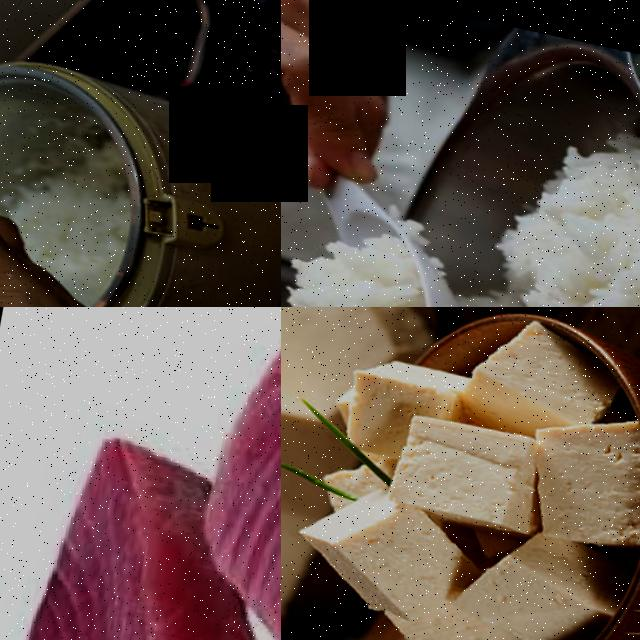tofu: (303, 482, 487, 620), (389, 400, 555, 527), (468, 511, 610, 640), (516, 400, 640, 544), (465, 311, 615, 427), (353, 345, 470, 410)
tuna: (0, 419, 281, 640), (180, 307, 281, 640)
white rice: (510, 127, 640, 307), (281, 230, 453, 307)
